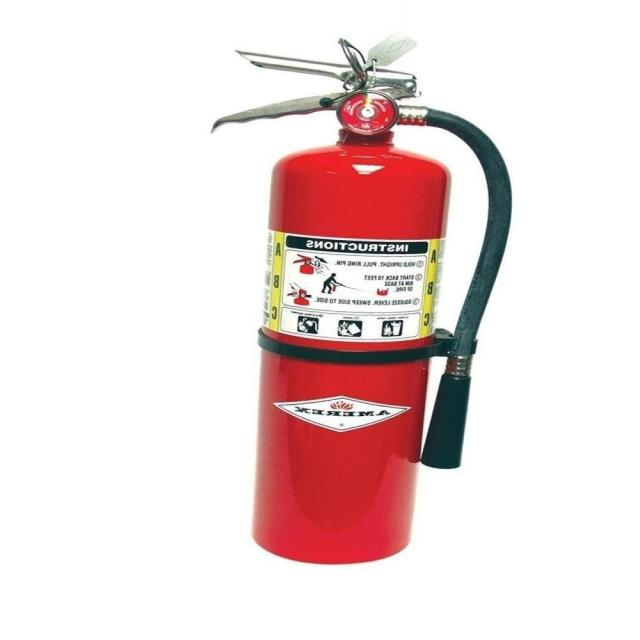fire_extinguisher: (204, 27, 514, 569)
